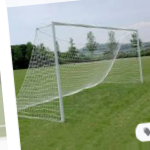goals: (19, 19, 145, 123)
